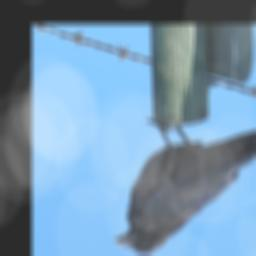Crow: (112, 117, 256, 256)
